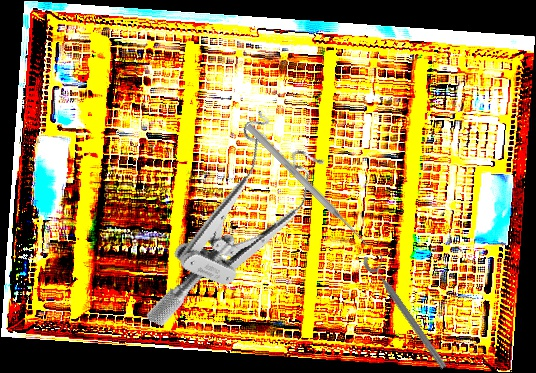Fixation Ring: (359, 247, 457, 373)
Pusher: (243, 121, 372, 250)
Speculum: (144, 101, 334, 360)
